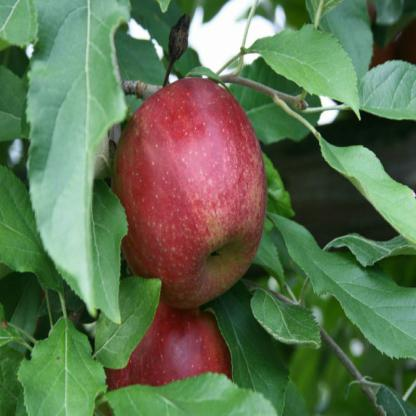apple leaf: (23, 1, 130, 325), (241, 20, 369, 121), (316, 125, 415, 243), (17, 315, 116, 415), (250, 278, 325, 361), (353, 59, 415, 123)
